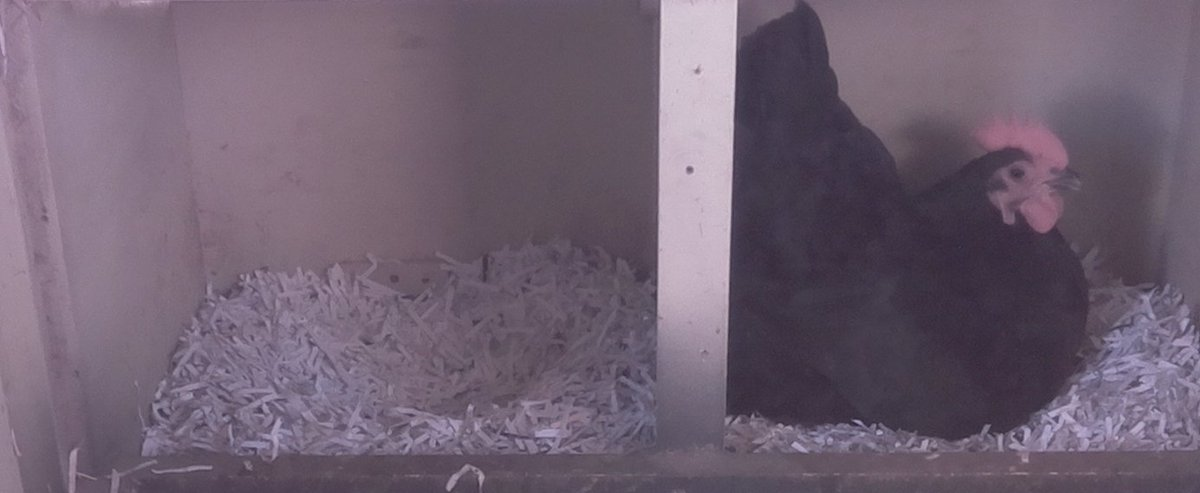hen: (737, 11, 1092, 446)
